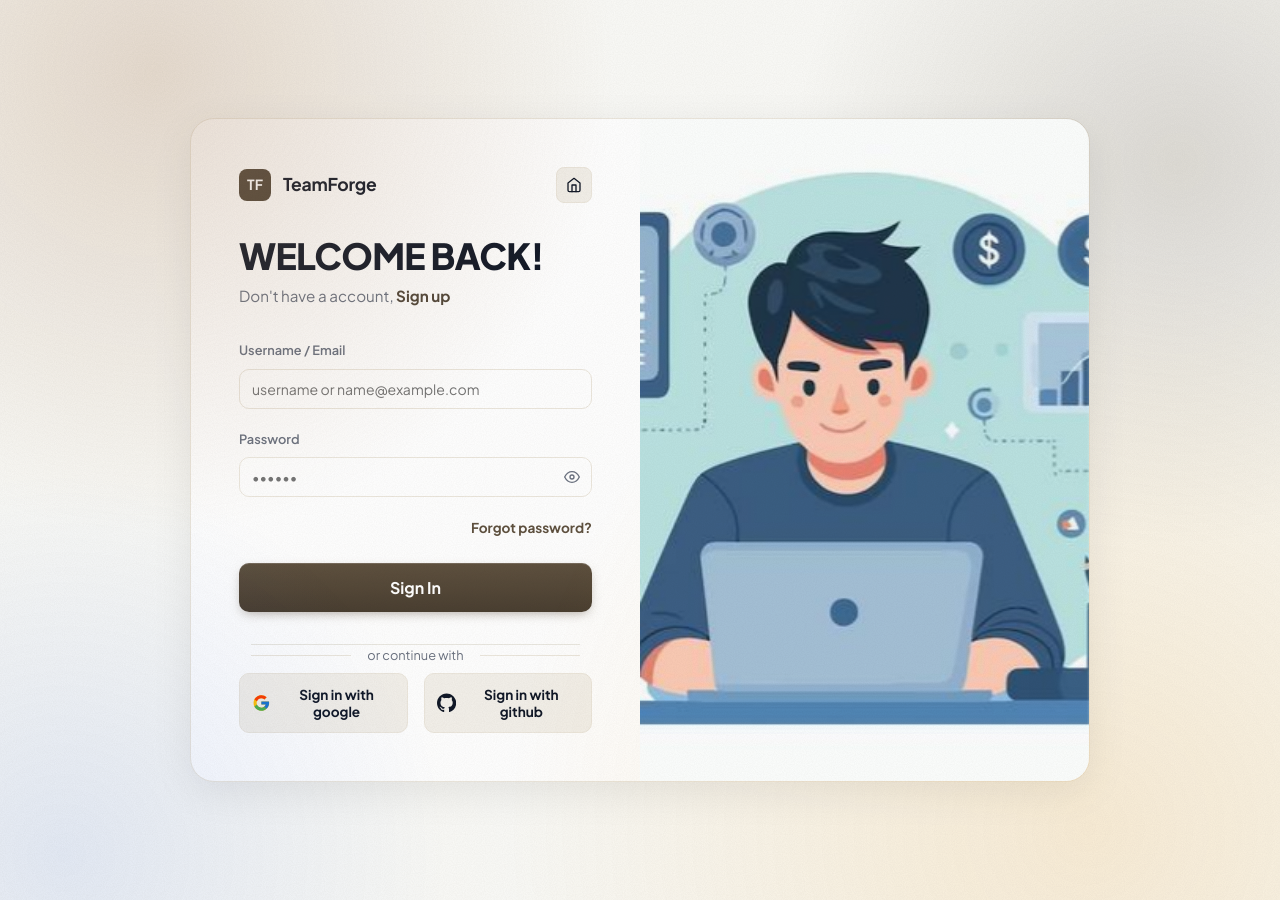
Test case: STEP 3 FRONTEND: Suspended User Notification & Screen › 3. Login.jsx displays suspended panel on 403 ACCOUNT_SUSPENDED, keeps email, clears password
The width and height of the screenshot is (1280, 900).
Type "suspended.user@teamforge.io" into the field with placeholder "username or name@example.com". click: (416, 389)
box: [239,369,592,409]
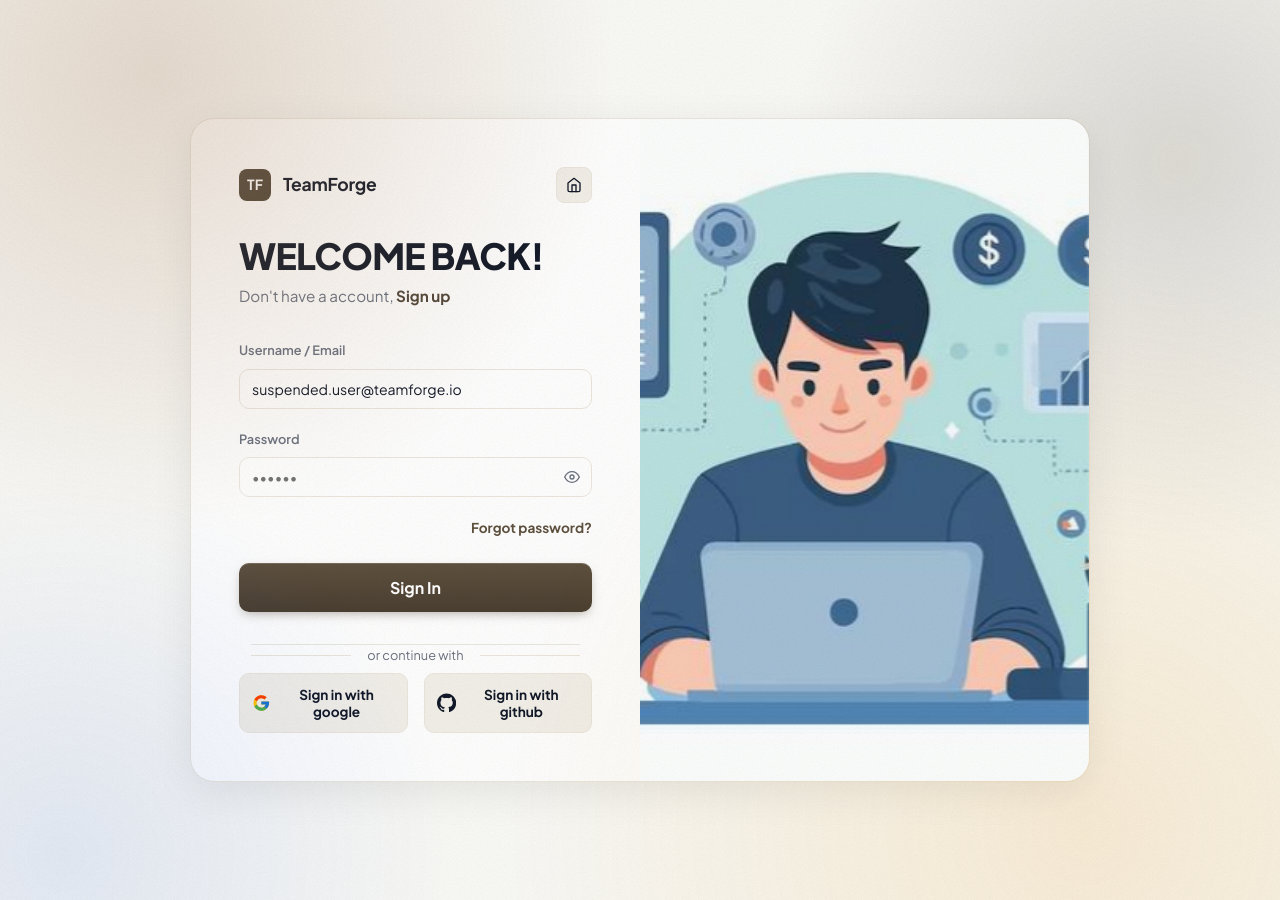
Type "secret123" into the password field with placeholder "••••••". click: (416, 477)
box: [239,457,592,497]
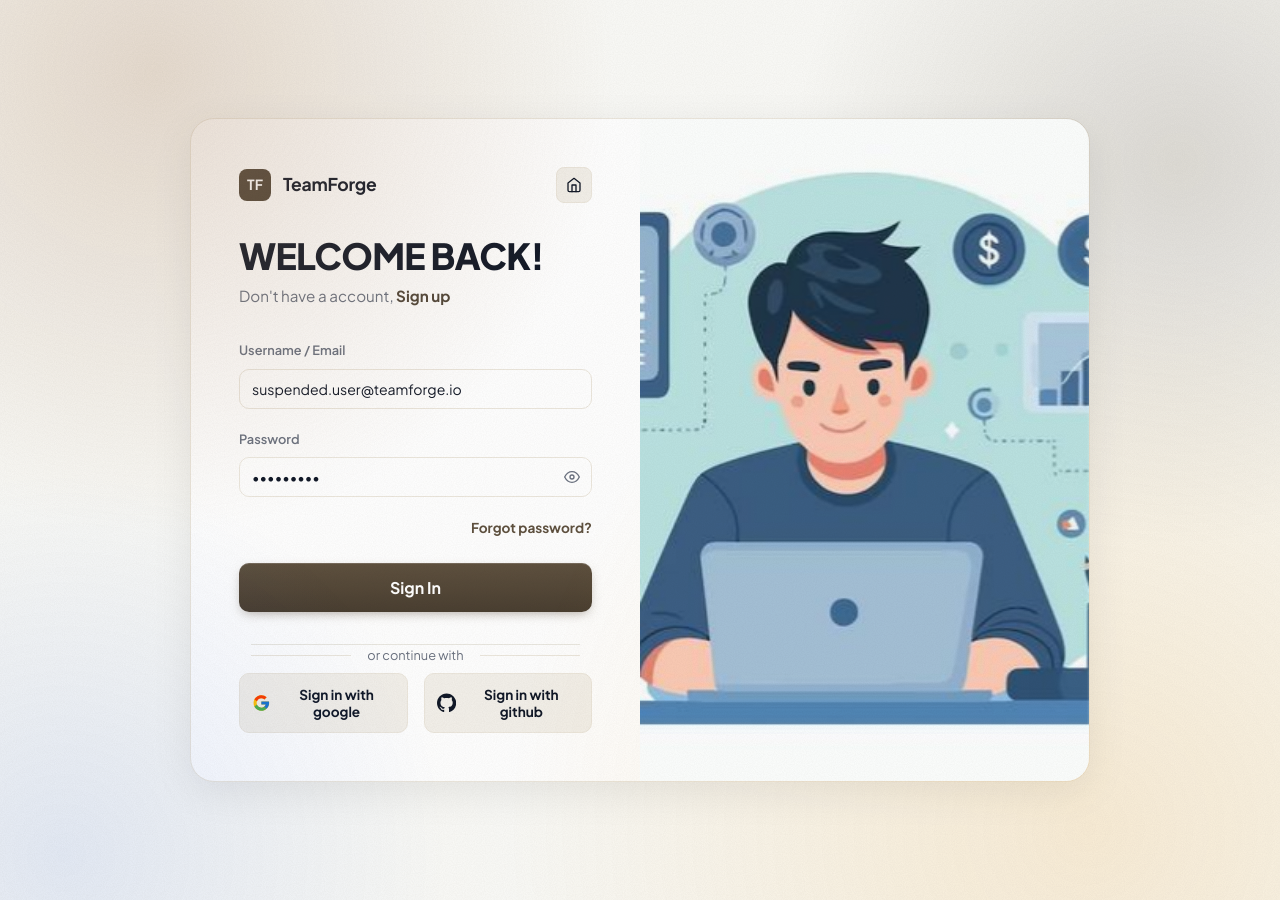
Click the button "Sign In". click: click(416, 588)
box: [239,563,592,612]
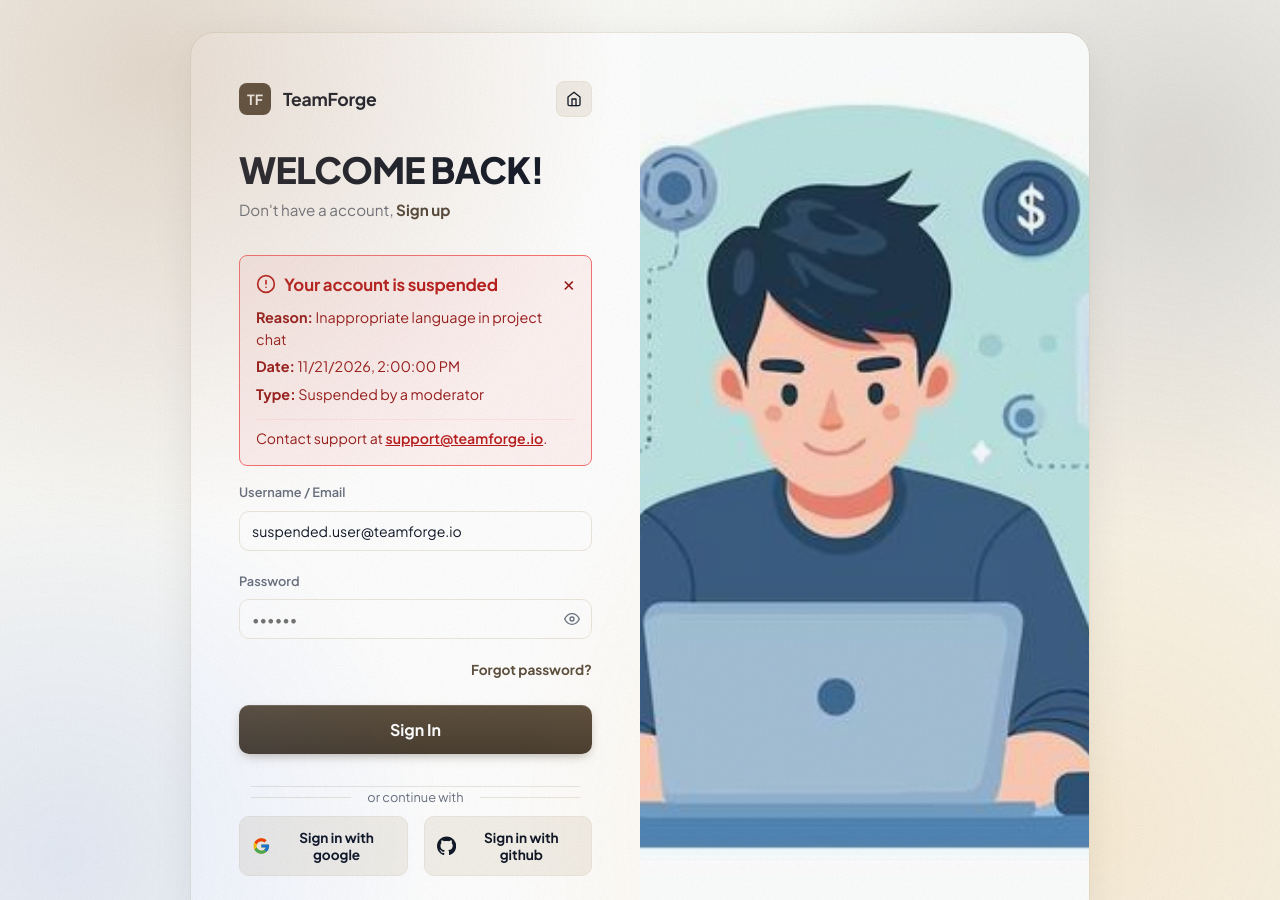
expect the message with test id "suspended-account-panel" is shown: met, box [239,255,592,466]
expect the text with test id "suspended-reason" reads "Inappropriate language in project chat": met, box [256,308,542,348]
expect the text with test id "suspended-type" reads "Suspended by a moderator": met, box [298,385,484,403]
